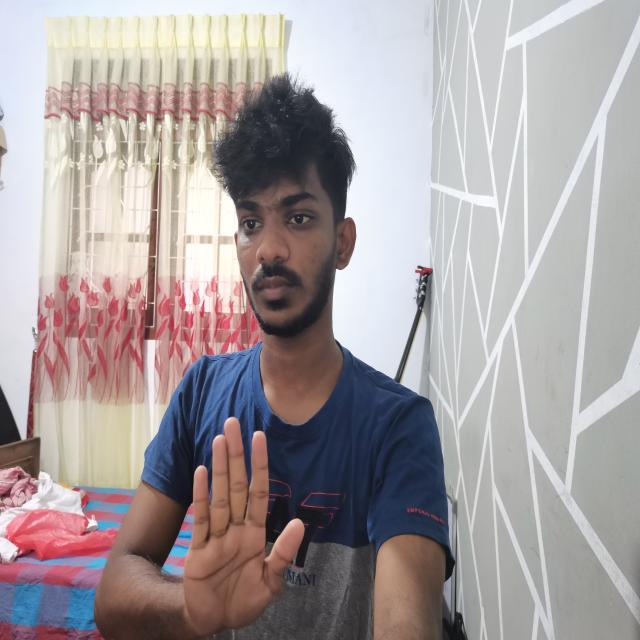Hello: (179, 416, 306, 636)
